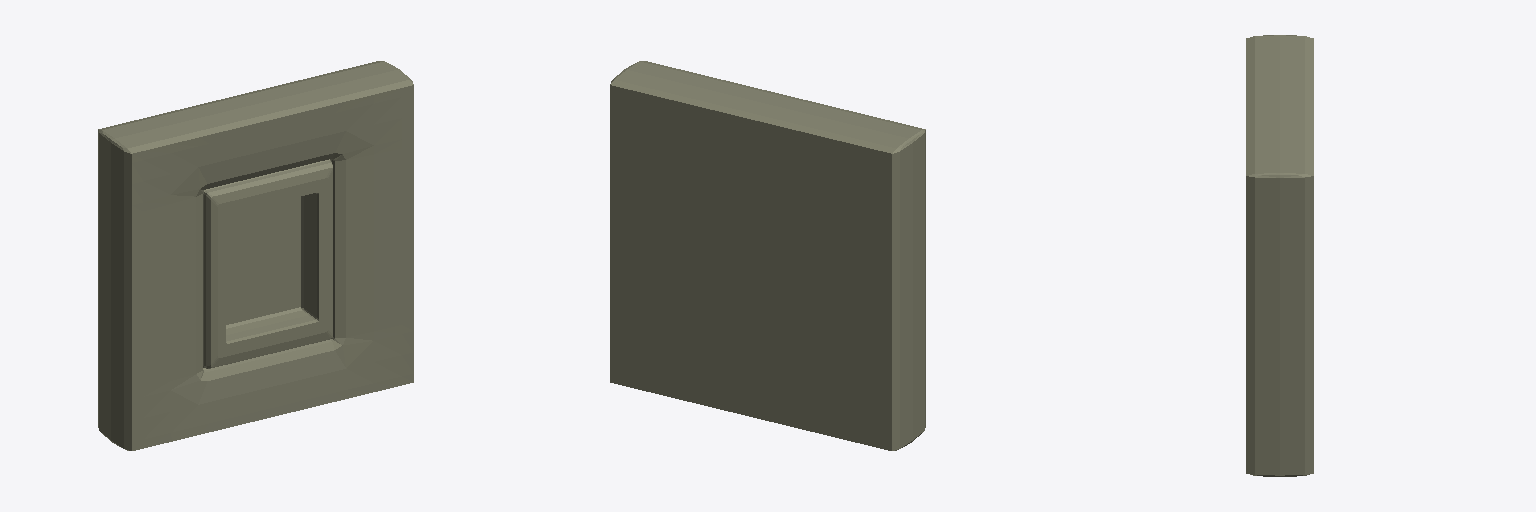
The model's file is cover.obj.
The picture shows the model from 3 angles: view 1: azimuth 30°, elevation 25°; view 2: azimuth 150°, elevation 25°; view 3: azimuth 270°, elevation 25°; orthographic projection.
Parts seen in each view (by area): view 1: Cover; view 2: Cover; view 3: Cover.
Boxes of the visible parts, box(x1,y1,x2,y2) form: Cover: box(98, 61, 413, 450); Cover: box(610, 61, 925, 450); Cover: box(1246, 35, 1313, 476).
Size of the model in its own units: 0.2 by 0.2 by 0.04.